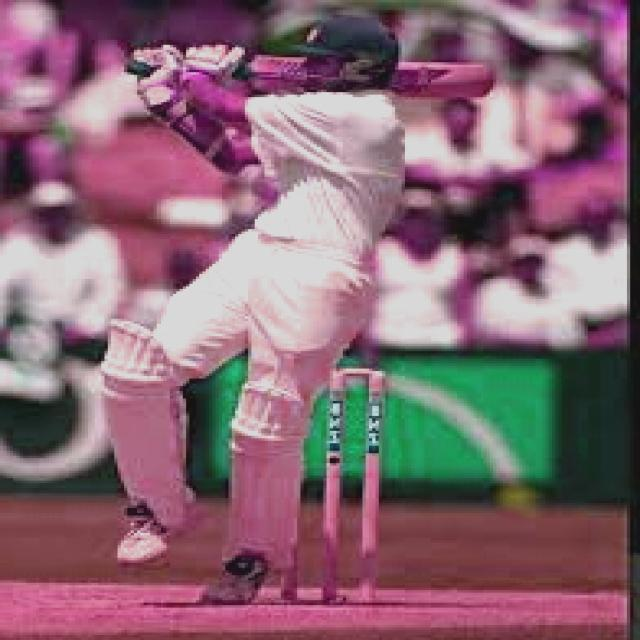toe: (476, 62, 497, 96)
